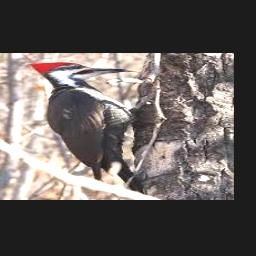Woodpecker: (30, 62, 140, 194)
